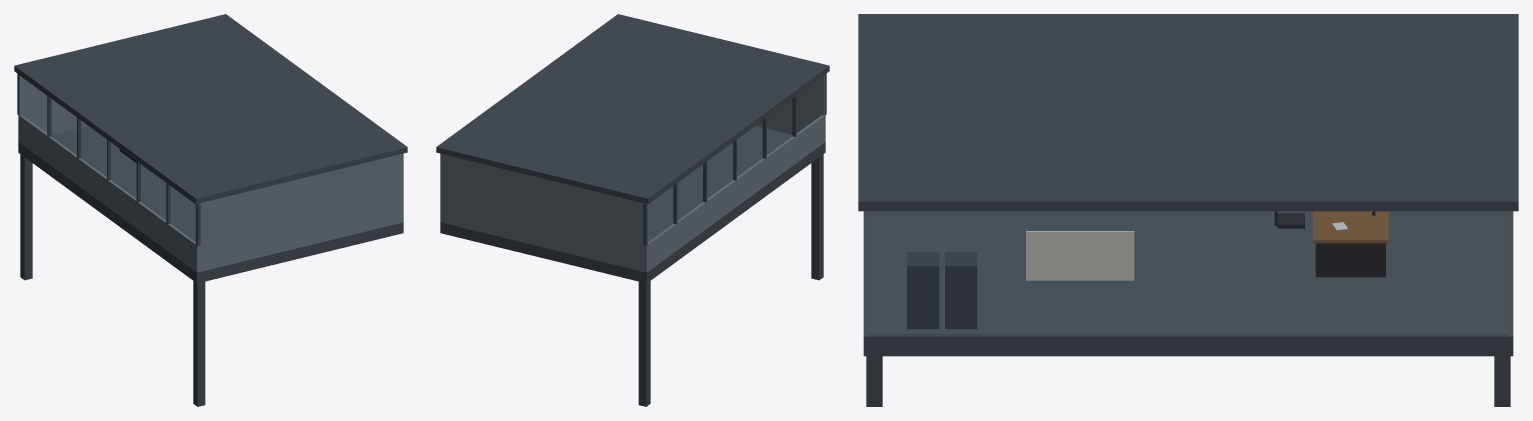
Rendered from dp-office.glb.
The picture shows the model from 3 angles, left to right: view 1: azimuth 30°, elevation 25°; view 2: azimuth 150°, elevation 25°; view 3: azimuth 270°, elevation 25°; orthographic projection. The views are drawn at different scales.
Visible parts, largest first — view 1: dp-office; view 2: dp-office; view 3: dp-office.
Boxes of the visible parts, <box> form: dp-office: <box>14,14,407,406</box>; dp-office: <box>436,14,829,406</box>; dp-office: <box>858,14,1518,406</box>.
Bounding box in the file's own units: 8.2 × 7.8 × 12.2.
